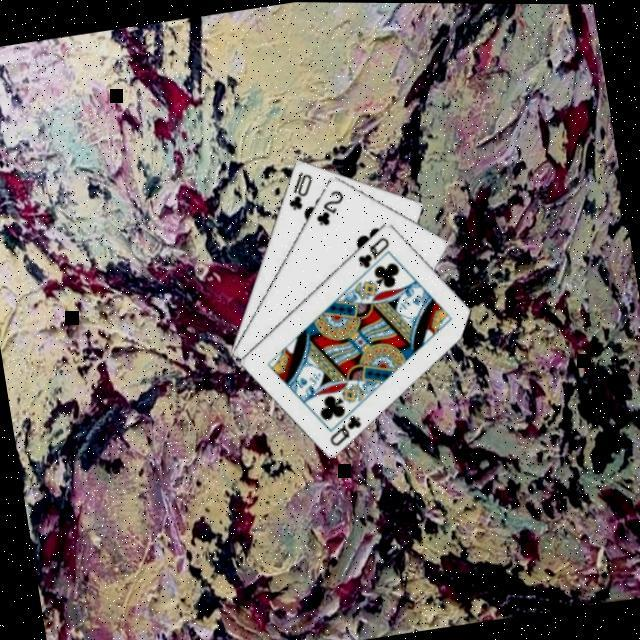10C: (280, 165, 318, 212)
2C: (308, 184, 350, 228)
QC: (322, 408, 367, 448), (350, 230, 394, 270)
